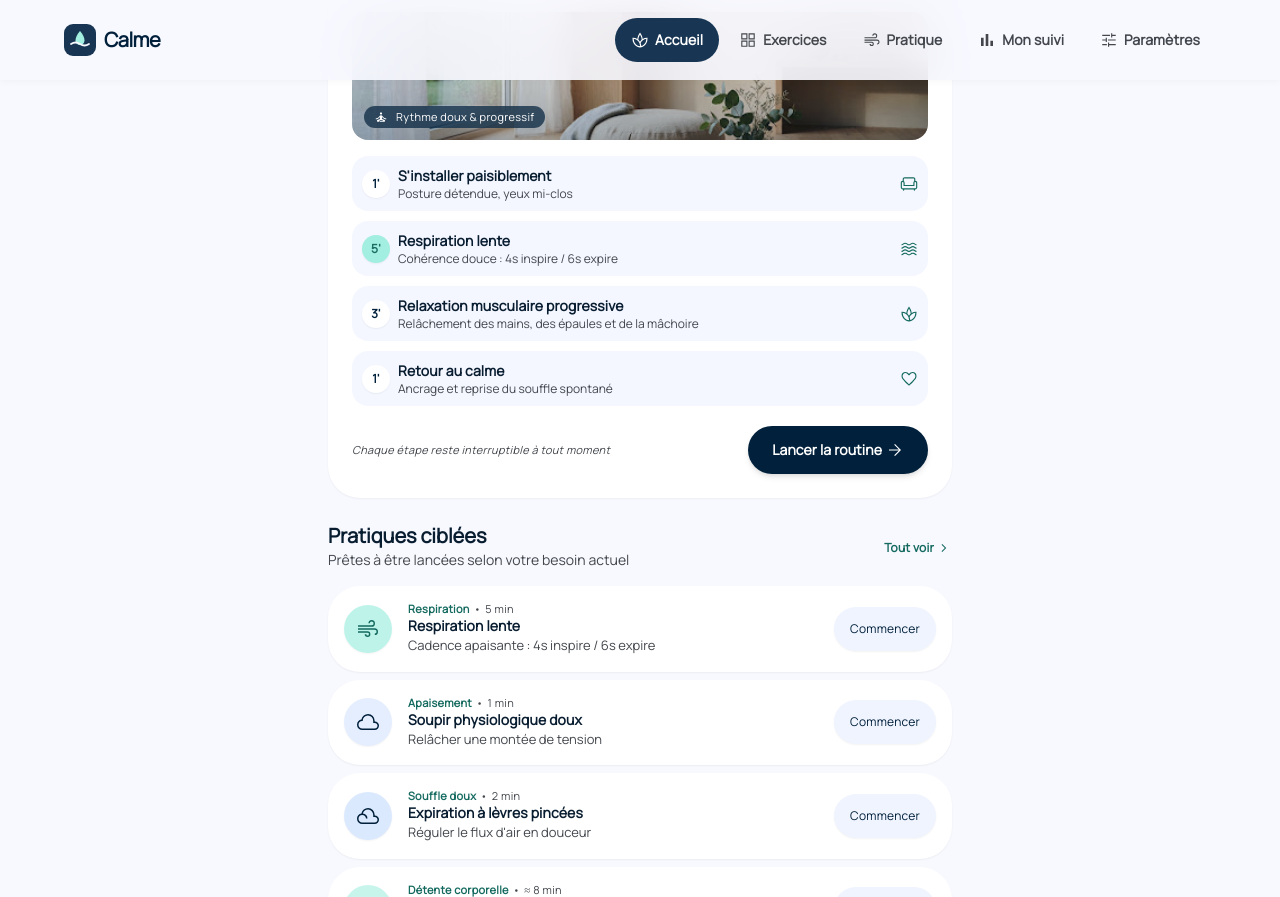
it: home screen › "Lancer la routine" starts the routine on slow breathing
(page scrolled)
What coordinates should you click on to do the following:
click the link "Lancer la routine"
I would click on:
 (838, 450)
Its box is [748,426,928,474].
(page scrolled)
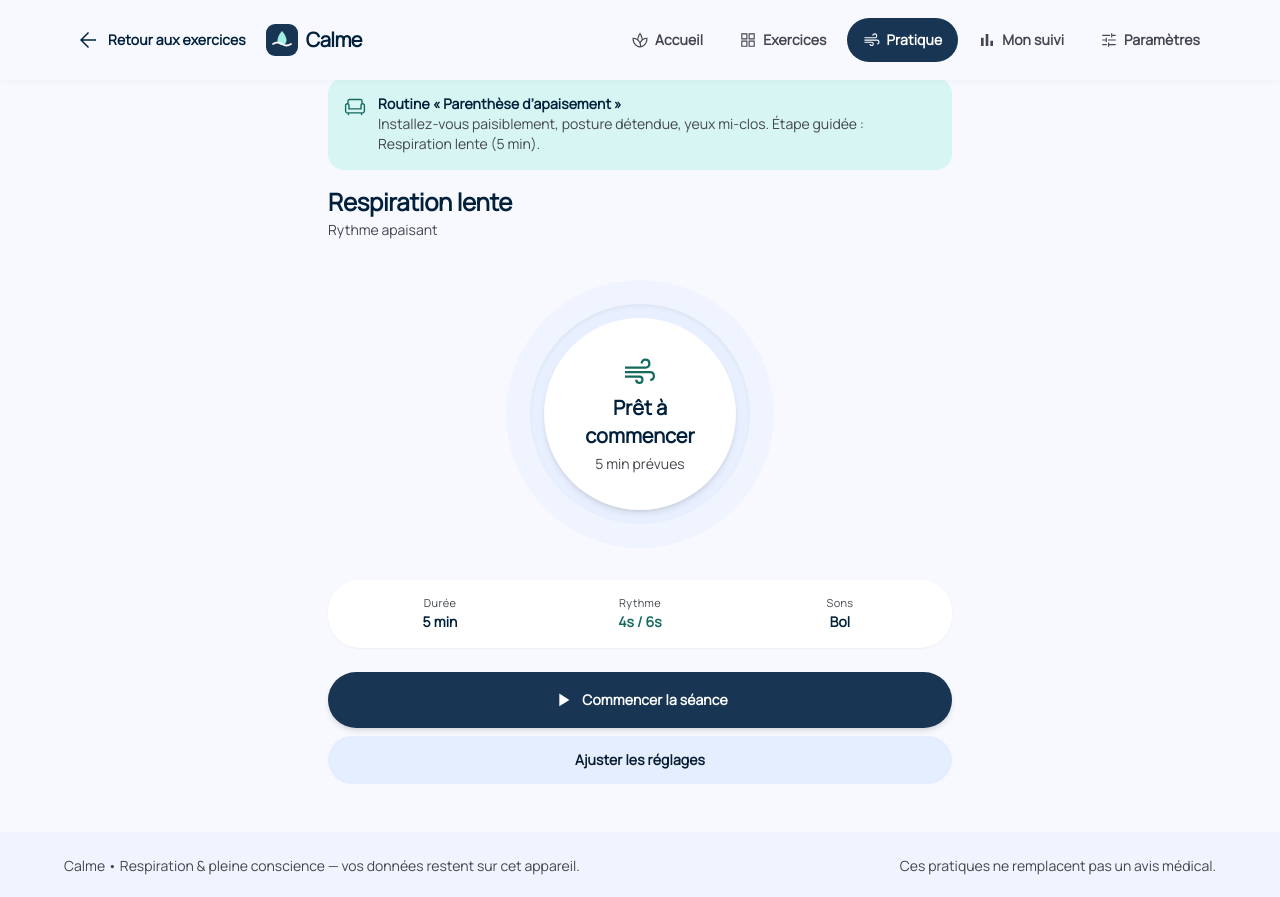
Result: the text "Routine « Parenthèse d’apaisement »" is shown at [378,94,622,113]
